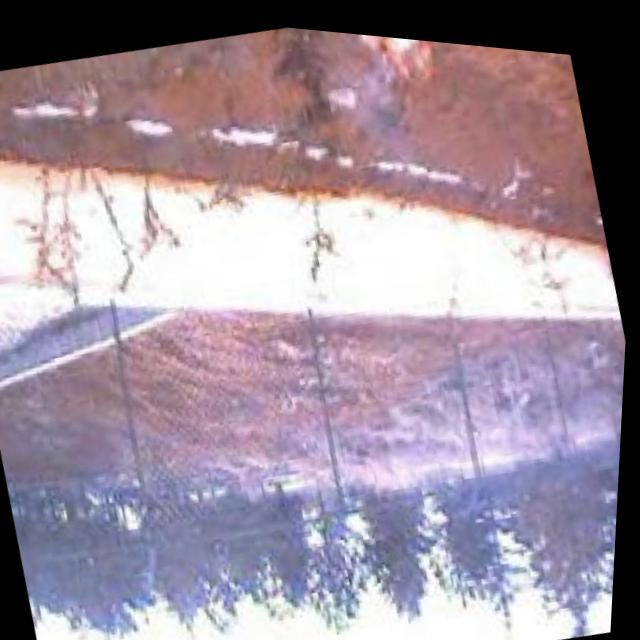fire: (338, 26, 454, 130)
